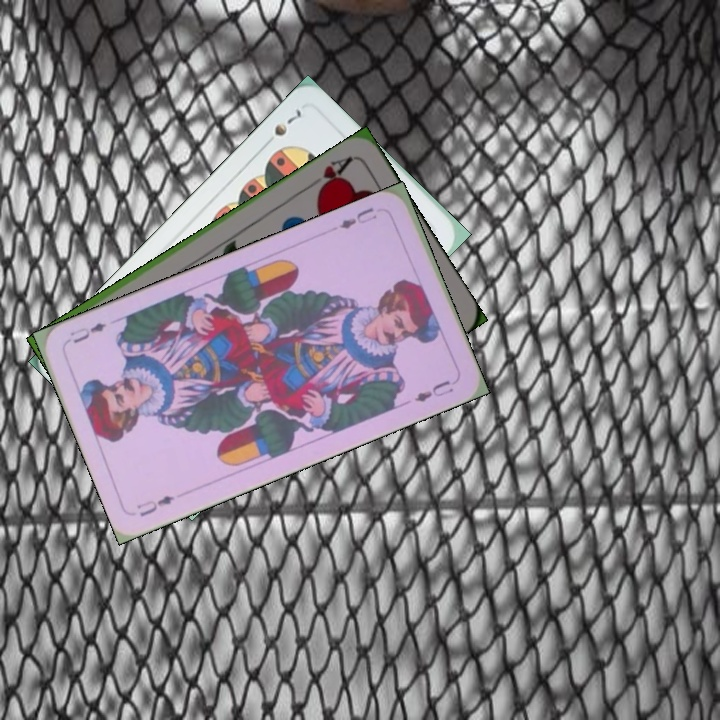EU: (330, 203, 380, 233), (132, 491, 177, 520)
HA: (314, 152, 356, 196)
S7: (259, 105, 304, 150)
